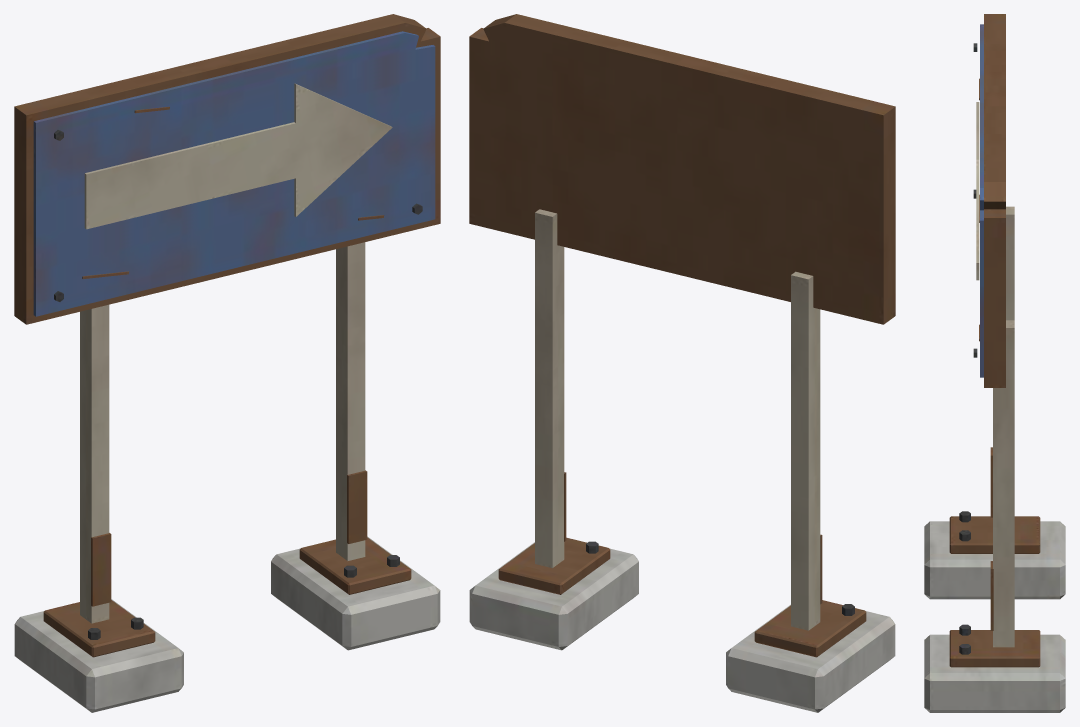
File: RE02_platform_signs_symbols_v2.glb
3 renders of one model, left to right at view 1: azimuth 30°, elevation 25°; view 2: azimuth 150°, elevation 25°; view 3: azimuth 270°, elevation 25°, orthographic. The views are drawn at different scales.
Visible parts, largest first — view 1: Chipped concrete footing; view 2: Chipped concrete footing; view 3: Chipped concrete footing.
Boxes of the visible parts, bbox=[...] form: Chipped concrete footing: bbox=[14, 14, 440, 712]; Chipped concrete footing: bbox=[469, 14, 895, 712]; Chipped concrete footing: bbox=[924, 14, 1065, 712].
Bounding box in the file's own units: 0.89 × 1.2 × 0.29.
Materials: 5 (5 with a texture image).
